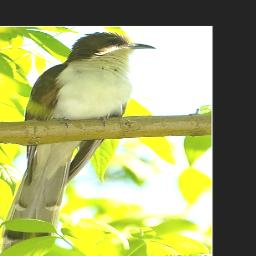Cuckoo: (0, 31, 157, 256)
